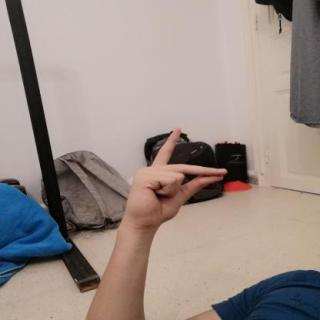TAA: (112, 122, 236, 232)
